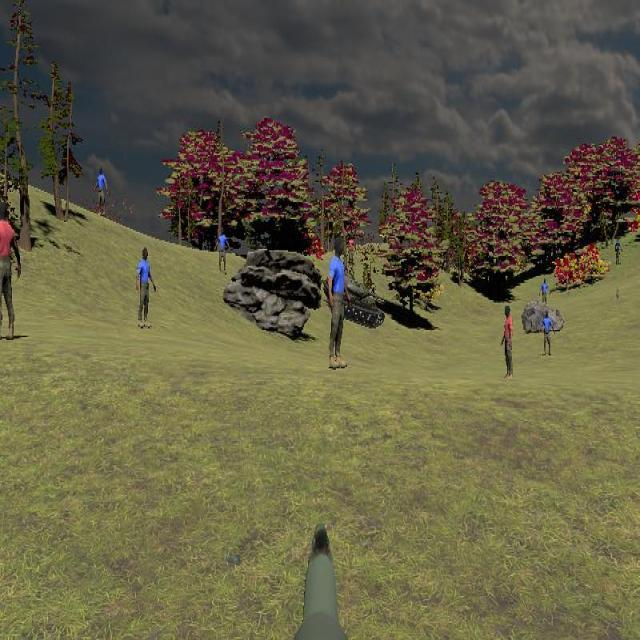Human: (0, 200, 22, 342), (328, 238, 349, 366), (136, 248, 156, 329), (501, 305, 513, 381), (215, 227, 230, 275), (94, 166, 108, 217), (541, 310, 555, 357)
Tank: (335, 279, 388, 329)
